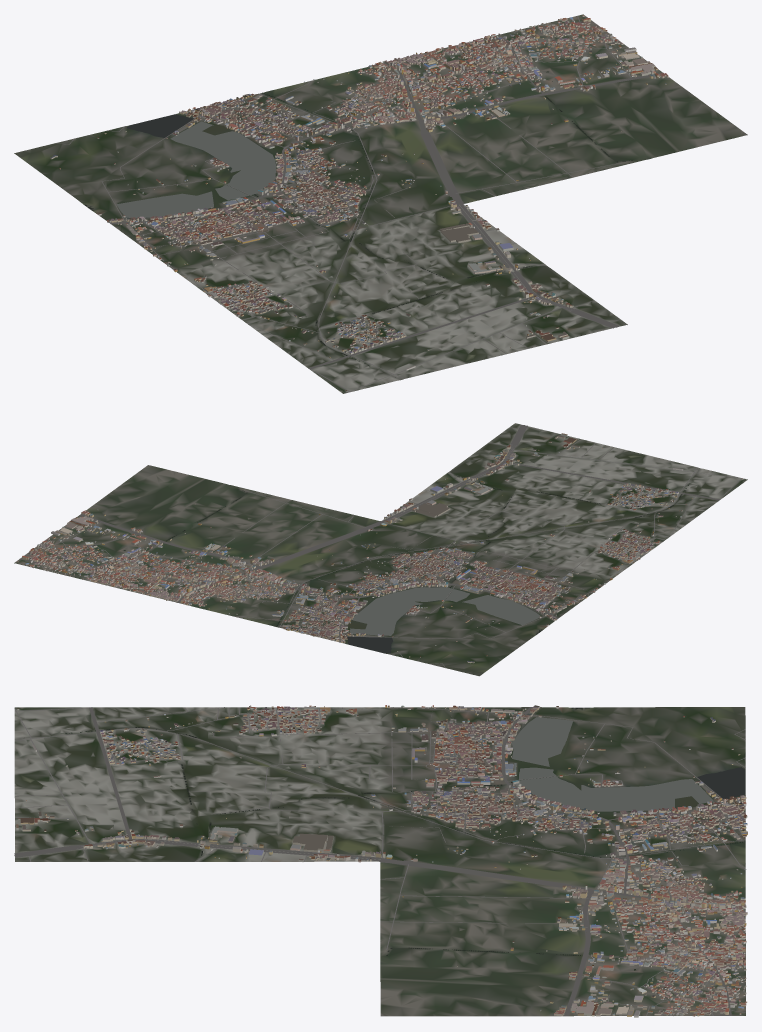
3 renders of one model, top to bottom at view 1: azimuth 30°, elevation 25°; view 2: azimuth 150°, elevation 25°; view 3: azimuth 270°, elevation 25°, orthographic. The views are drawn at different scales.
Parts seen in each view (by area): view 1: ground, buildings, roads, water; view 2: ground, buildings, roads, water; view 3: ground, buildings, roads, water.
Part boxes in pixels (box(x1,y1,x2,y2)): ground: box(14, 14, 747, 393); buildings: box(50, 15, 668, 391); roads: box(55, 15, 663, 393); water: box(84, 71, 632, 377); ground: box(14, 423, 747, 676); buildings: box(17, 433, 743, 663); roads: box(19, 424, 744, 667); water: box(123, 475, 689, 653); ground: box(14, 707, 745, 1016); buildings: box(16, 705, 747, 1017); roads: box(14, 707, 745, 1016); water: box(65, 707, 745, 970).
Size of the model in its own units: 2823 by 30.85 by 2816.
